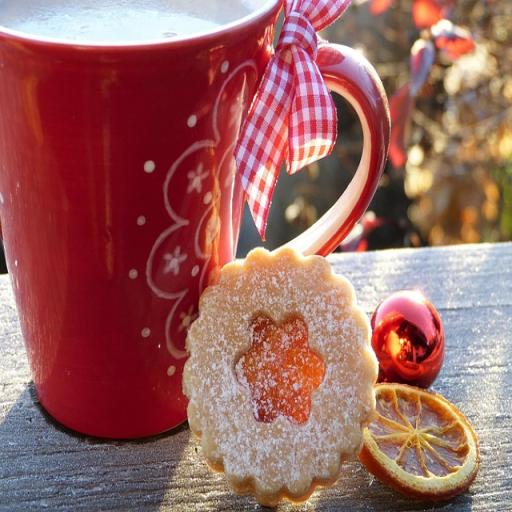phone: (0, 0, 391, 444)
